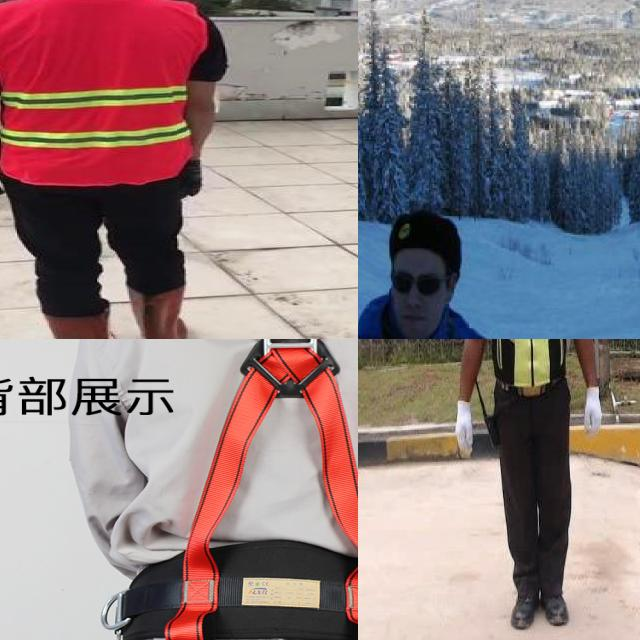Harness: (158, 339, 358, 640)
boots: (123, 288, 187, 339), (31, 308, 114, 339), (541, 583, 573, 634), (509, 589, 542, 634)
face_nomask: (393, 267, 440, 329)
glasses: (389, 274, 450, 294)
hand_glove: (180, 161, 203, 199)
head_nohelmet: (386, 200, 467, 266)
person: (0, 0, 233, 339), (426, 339, 634, 640), (358, 204, 517, 339)
vest: (0, 0, 196, 183), (487, 339, 577, 391)
